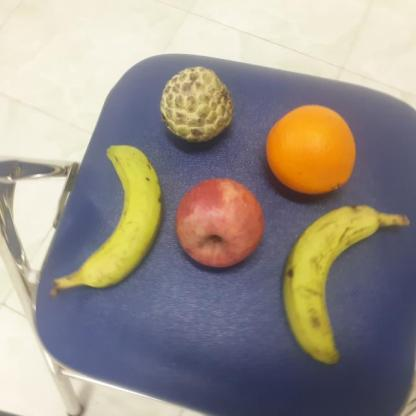annona: (158, 66, 236, 146)
apple: (173, 177, 266, 271)
banana: (282, 203, 380, 366), (76, 142, 164, 289)
orange: (262, 103, 356, 195)
